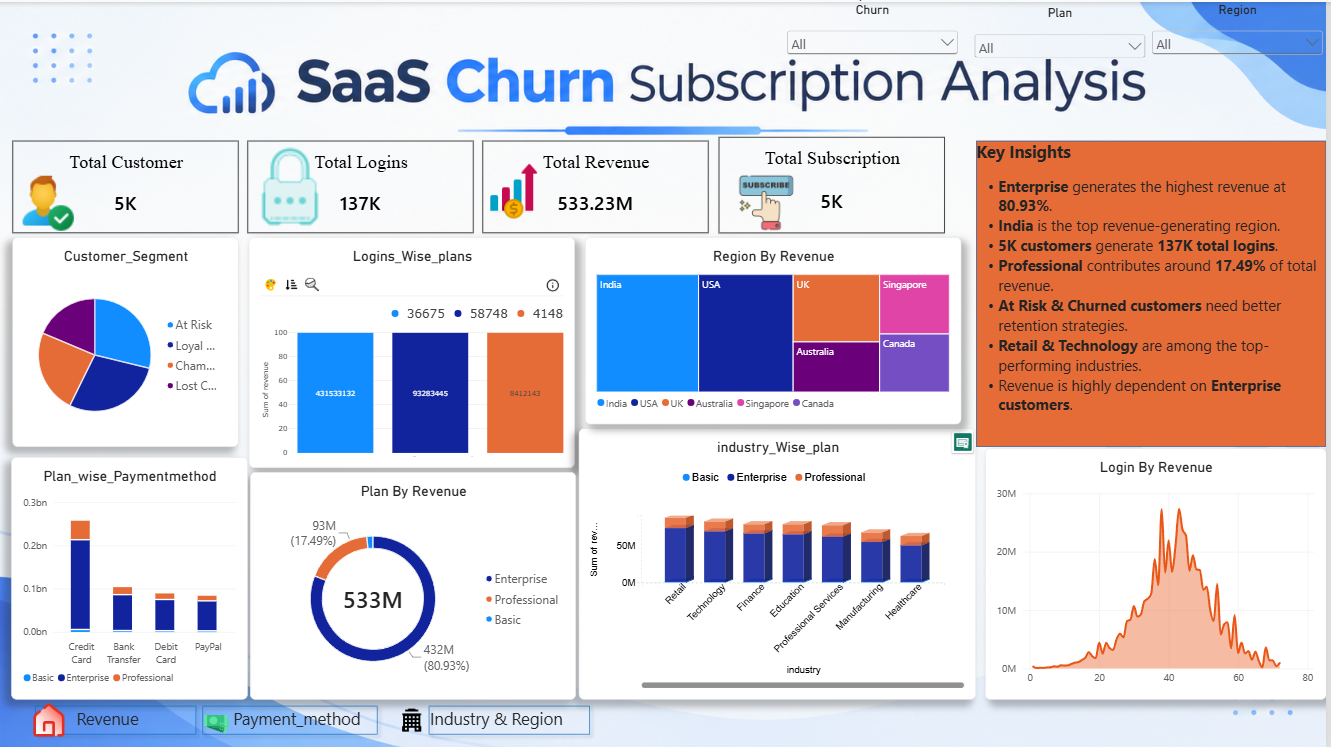

This screenshot's page, from the dashboard's own definition file:
{"tool":"powerbi","page":{"name":"Page 4","canvas":[1920,1080],"ordinal":3},"visuals":[{"type":"cardVisual","title":"Total Customer","fields":{"Data":["saas customers_clean.total_customer"]},"box":[18.1,200.9,327.3,158.5],"z":0},{"type":"cardVisual","title":"Total Revenue","fields":{"Data":["saas subscription_clean.total_rev"]},"box":[698.5,200.9,327.5,159.3],"z":1000},{"type":"cardVisual","title":"Total Subscription","fields":{"Data":["saas subscription_clean.total sub"]},"box":[1040.6,200.9,327.5,159.3],"z":2000},{"type":"cardVisual","title":"Total Logins","fields":{"Data":["saas usage_clean.Total_login"]},"box":[358.3,200.9,327.5,159.3],"z":3000},{"type":"pieChart","title":"Customer_Segment","fields":{"Category":["saas rfm_customer.Customer Segment"],"Y":["CountNonNull(saas customers_clean.industry)"]},"box":[18.1,394.5,327.5,304],"z":4000},{"type":"stackcolumnlabelvalue6EB582BBADBBD9847D2A59E6558A8AB9","title":"Logins_Wise_plans","fields":{"col_3":["saas subscription_clean.plan"],"col_6":["Sum(saas subscription_clean.revenue)"],"col_5":["Sum(saas usage_clean.monthly_logins)"]},"box":[374.6,394.5,472.3,334.8],"z":5000},{"type":"barChartnew3D9F6B456A3E4B4A1B8D8F2D3A4B5C6D7E","title":" industry_Wise_plan","fields":{"category":["saas customers_clean.industry"],"measure":["Sum(saas subscription_clean.revenue)"],"legend":["saas subscription_clean.plan"]},"box":[872.3,655.1,575.5,421.7],"z":6000},{"type":"donutChart","title":"Plan_wise_Revenue","fields":{"Category":["saas subscription_clean.plan"],"Y":["Sum(saas subscription_clean.revenue)"]},"box":[374.6,747.4,472.3,329.4],"z":7000},{"type":"lineStackedColumnComboChart","title":"Plan_wise_Paymentmethod","fields":{"Category":["saas subscription_clean.payment_method"],"Series":["saas subscription_clean.plan"],"Y":["Sum(saas subscription_clean.revenue)"]},"box":[18.1,711.2,342,365.6],"z":8000},{"type":"stackedAreaChart","title":"Login_Wise_Revenue","fields":{"Category":["saas usage_clean.monthly_logins"],"Y":["Sum(saas subscription_clean.revenue)"]},"box":[1464,655.1,456,421.7],"z":9000},{"type":"treemap","title":"Region_Wise_Revenue ","fields":{"Group":["saas customers_clean.region"],"Values":["Sum(saas subscription_clean.revenue)"]},"box":[846.9,372.8,544.7,271.4],"z":10000},{"type":"shape","box":[1413.3,200.9,506.7,443.4],"z":11000},{"type":"textbox","box":[1413.3,200.9,506.7,443.4],"z":12000},{"type":"slicer","title":"Churn","fields":{"Values":["saas chur_clean.churn"]},"box":[1134.7,0,257,79.6],"z":13000},{"type":"slicer","title":"Plan","fields":{"Values":["saas customers_clean.plan"]},"box":[1406.1,5.4,257,74.2],"z":14000},{"type":"slicer","title":"Region","fields":{"Values":["saas customers_clean.region"]},"box":[1663.1,0,257,92.3],"z":15000},{"type":"image","box":[358.3,213.5,123.1,146.6],"z":16000},{"type":"image","box":[18.1,213.5,88.7,146.6],"z":17000},{"type":"image","box":[698.5,213.5,90.5,146.6],"z":18000},{"type":"image","box":[1040.6,246.1,137.5,114],"z":19000},{"type":"shape","box":[18.1,67,251.5,67],"z":20000},{"type":"shape","box":[18.1,133.9,251.5,67],"z":21000},{"type":"textbox","box":[18.1,0,222.6,67],"z":22000},{"type":"textbox","box":[18.1,67,251.5,67],"z":23000},{"type":"textbox","box":[18.1,133.9,251.5,67],"z":24000},{"type":"shape","box":[18.1,0,251.5,67],"z":25000},{"type":"shape","box":[18.1,67,251.5,67],"z":25001},{"type":"shape","box":[18.1,133.9,251.5,67],"z":25002},{"type":"image","box":[0,0,90.5,67],"z":25003},{"type":"image","box":[18.1,92.3,45.2,41.6],"z":25004},{"type":"image","box":[18.1,159.3,45.2,41.6],"z":25005}]}

Visuals, with their boxes in screenshot pixels (x1, y1, x2, y2), scaled from the page's 1920x1080 canvas onto the 1331x747 screenshot:
"Total Customer" cardVisual: 13,139,239,249
"Total Revenue" cardVisual: 484,139,711,249
"Total Subscription" cardVisual: 721,139,948,249
"Total Logins" cardVisual: 248,139,475,249
"Customer_Segment" pieChart: 13,273,240,483
"Logins_Wise_plans" stackcolumnlabelvalue6EB582BBADBBD9847D2A59E6558A8AB9: 260,273,587,504
" industry_Wise_plan" barChartnew3D9F6B456A3E4B4A1B8D8F2D3A4B5C6D7E: 605,453,1004,745
"Plan_wise_Revenue" donutChart: 260,517,587,745
"Plan_wise_Paymentmethod" lineStackedColumnComboChart: 13,492,250,745
"Login_Wise_Revenue" stackedAreaChart: 1015,453,1330,745
"Region_Wise_Revenue " treemap: 587,258,965,446
shape: 980,139,1330,446
textbox: 980,139,1330,446
"Churn" slicer: 787,0,965,55
"Plan" slicer: 975,4,1153,55
"Region" slicer: 1153,0,1330,64
image: 248,148,334,249
image: 13,148,74,249
image: 484,148,547,249
image: 721,170,817,249
shape: 13,46,187,93
shape: 13,93,187,139
textbox: 13,0,167,46
textbox: 13,46,187,93
textbox: 13,93,187,139
shape: 13,0,187,46
shape: 13,46,187,93
shape: 13,93,187,139
image: 0,0,63,46
image: 13,64,44,93
image: 13,110,44,139
